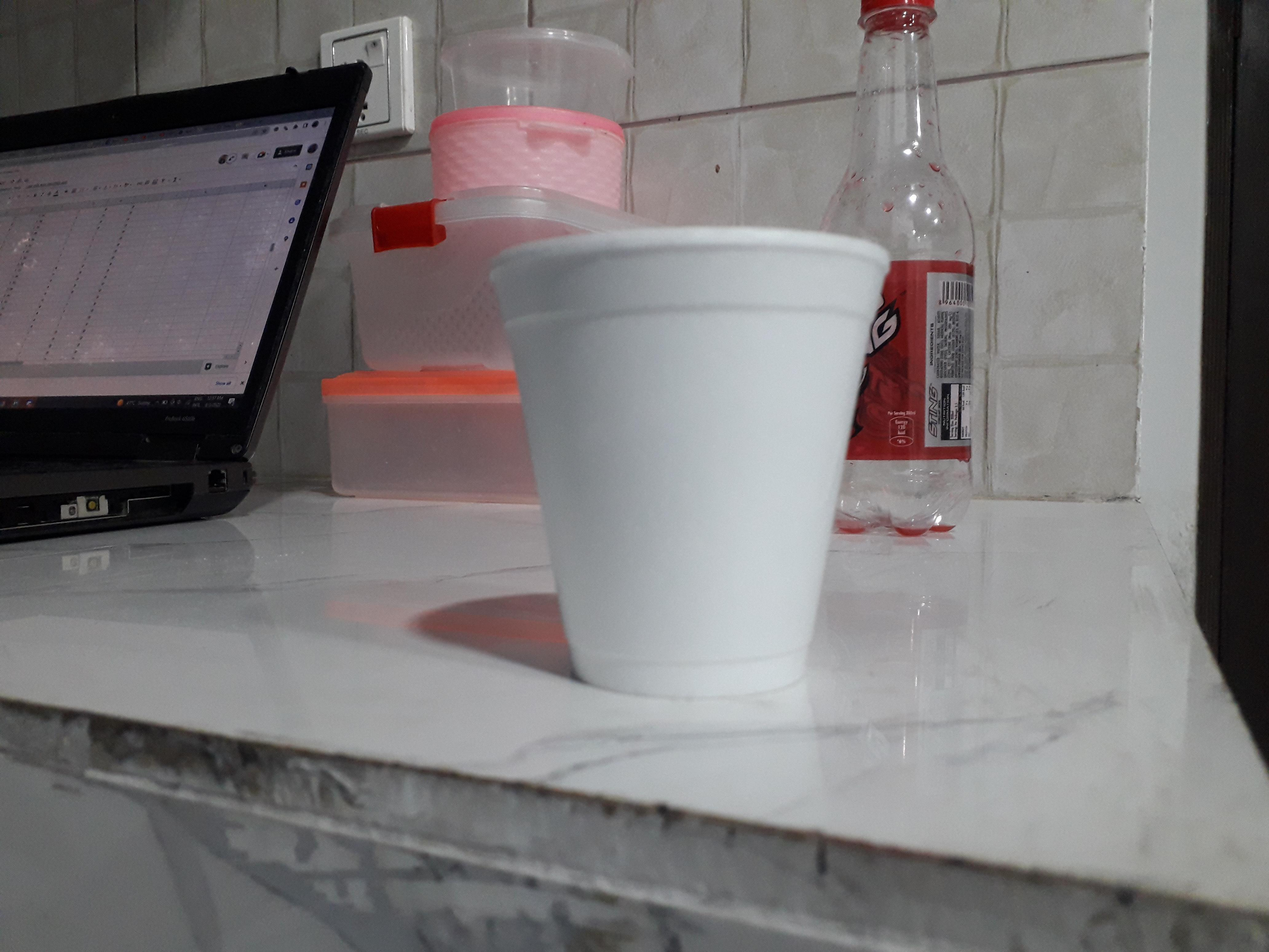bottle-plastic: (859, 0, 980, 535)
cup-disposable: (487, 220, 894, 702)
